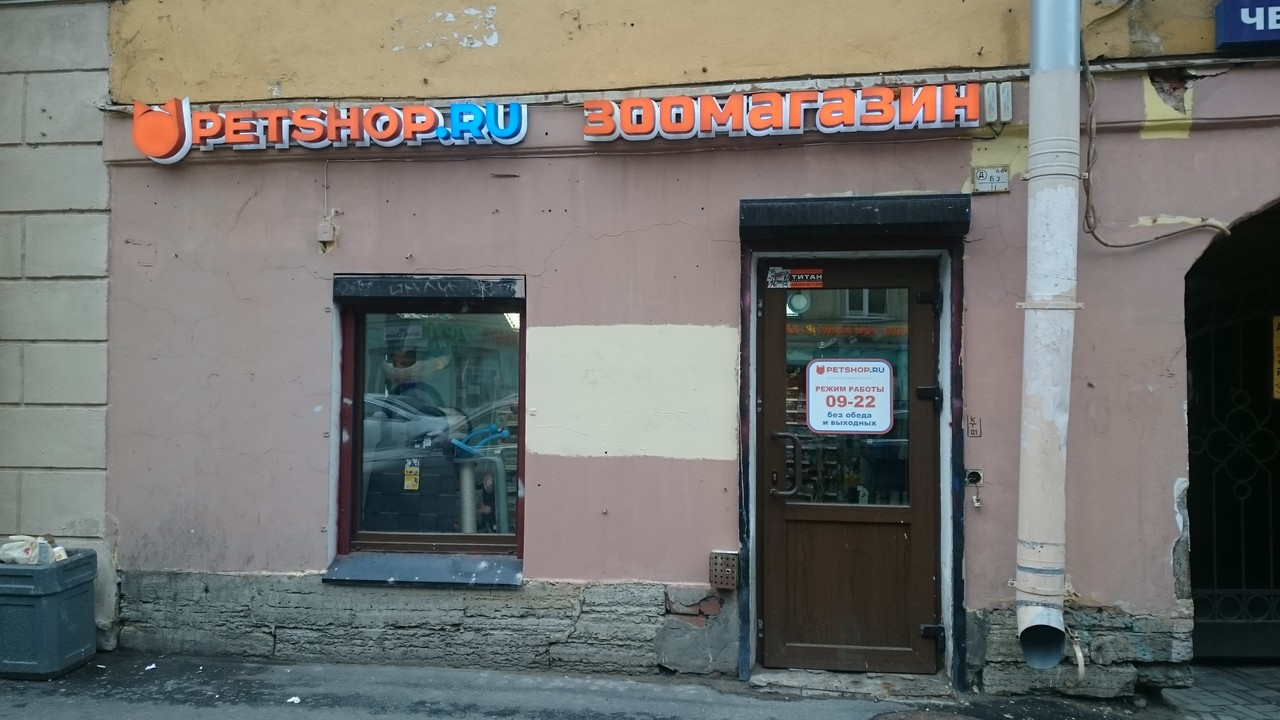door: (754, 251, 944, 677)
signboard: (133, 84, 980, 159)
window: (337, 277, 525, 555)
